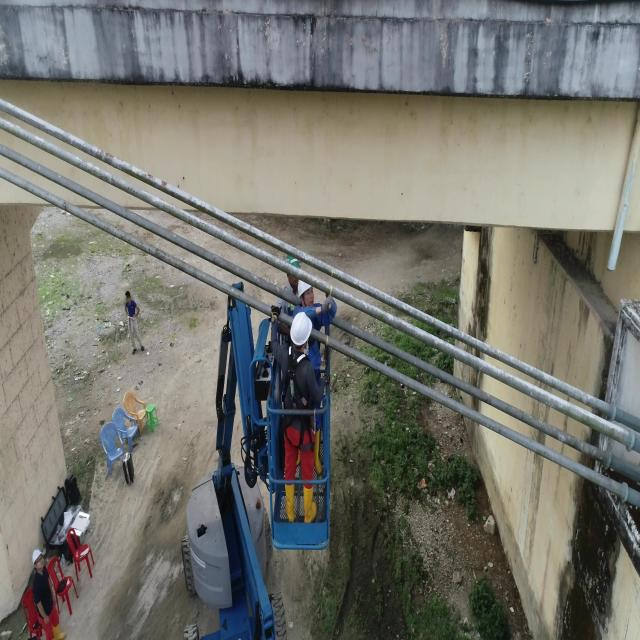corrosion: (96, 148, 105, 160), (105, 151, 113, 164), (161, 181, 167, 190), (148, 173, 153, 182)
crack: (403, 325, 406, 330)
